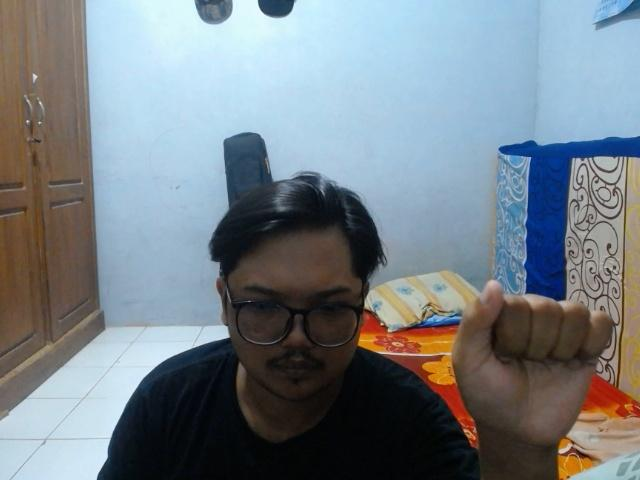Grab: (449, 276, 617, 453)
